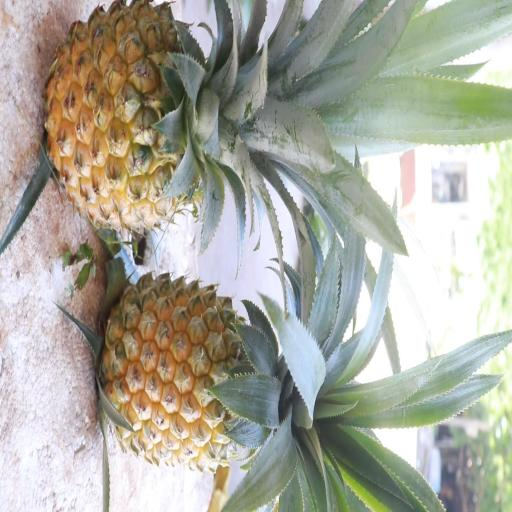Pineapple - v8 v1: (40, 0, 292, 238), (94, 262, 338, 477)
